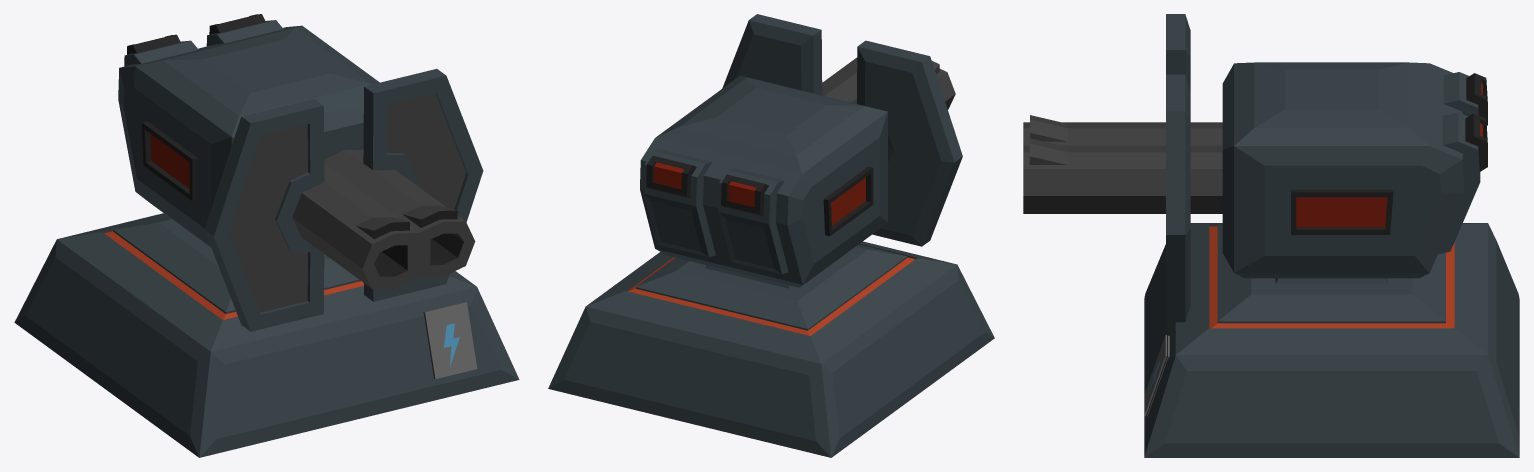
Rendered from Turret.fbx.
3 views of the same model, side by side, from view 1: azimuth 30°, elevation 25°; view 2: azimuth 150°, elevation 25°; view 3: azimuth 270°, elevation 25° (orthographic). The views are drawn at different scales.
Visible parts, largest first — view 1: Turret, Foundation; view 2: Foundation, Turret; view 3: Turret, Foundation.
Boxes of the visible parts, x1=… form: Turret: x1=118, y1=14, x2=483, y2=331; Foundation: x1=14, y1=213, x2=519, y2=457; Foundation: x1=548, y1=241, x2=994, y2=457; Turret: x1=640, y1=14, x2=962, y2=288; Turret: x1=1023, y1=14, x2=1487, y2=322; Foundation: x1=1144, y1=223, x2=1519, y2=457.
Size of the model in its own units: 465 by 433 by 615.
1 material, 1 textured.
